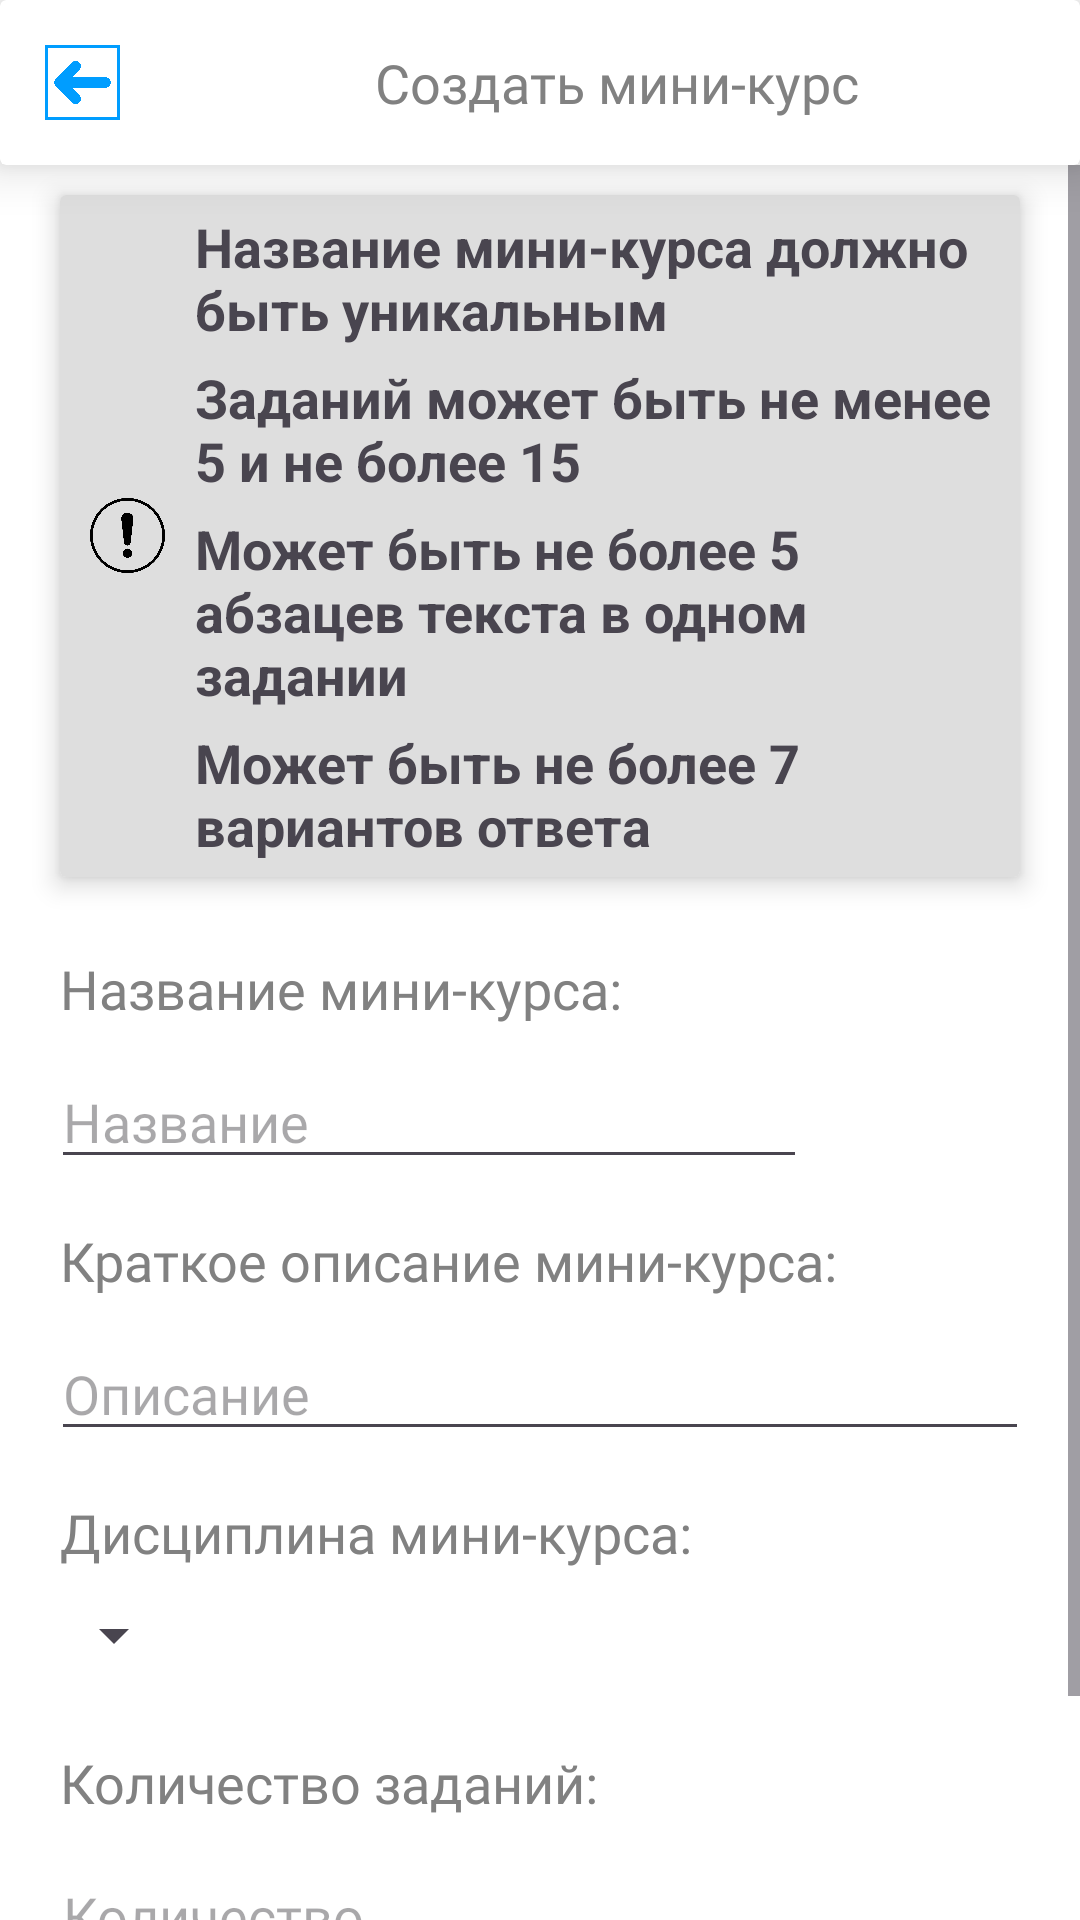

Icons on this 1080px x 1920px Android screen, each with the point to tap as [x,y]:
attention: [127,535]
leftarrow: [82,82]
